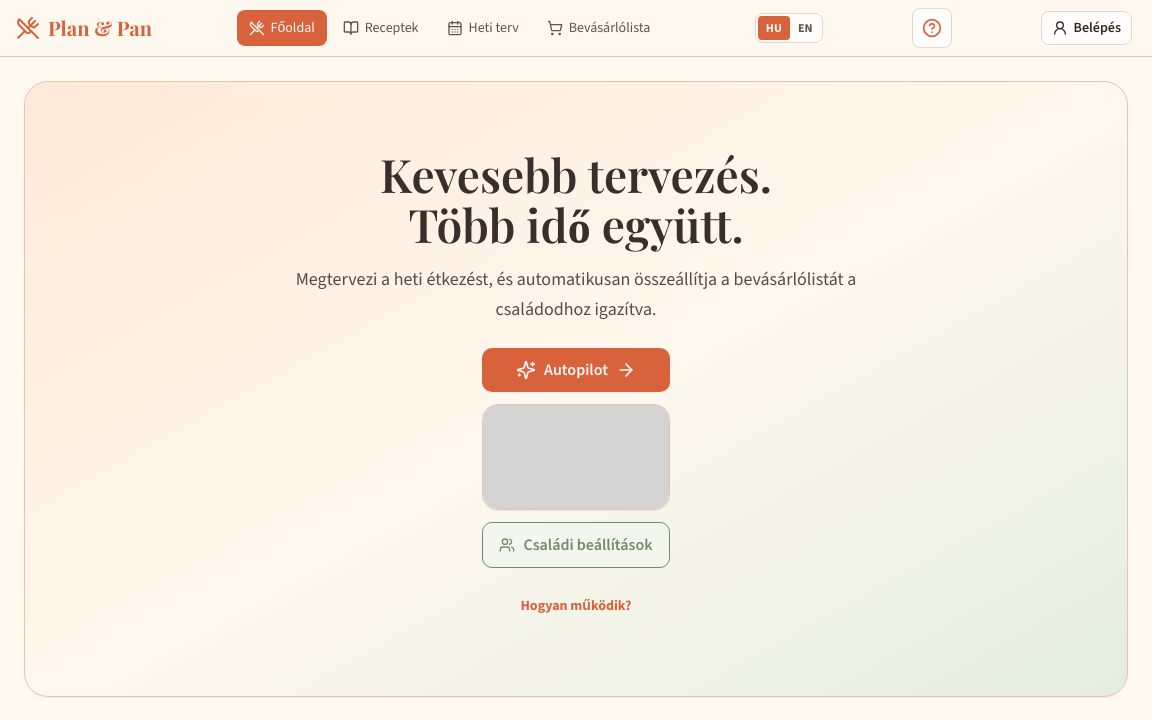
Test: planner meal cards › returns from the shopping list to the actual previous app page
The image size is (1152, 720).
Click the link "Bevásárlólista": [598, 28] box left=547, top=18, right=650, bottom=37
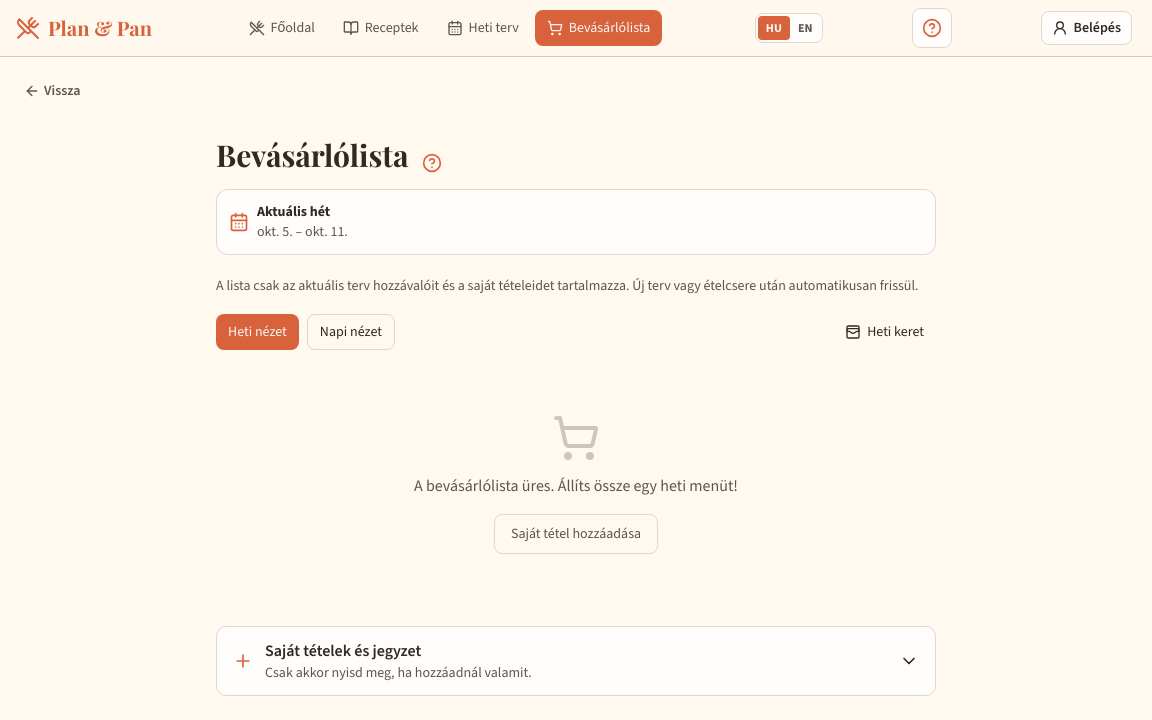
Click the link "Vissza": [52, 90] box left=24, top=81, right=80, bottom=100
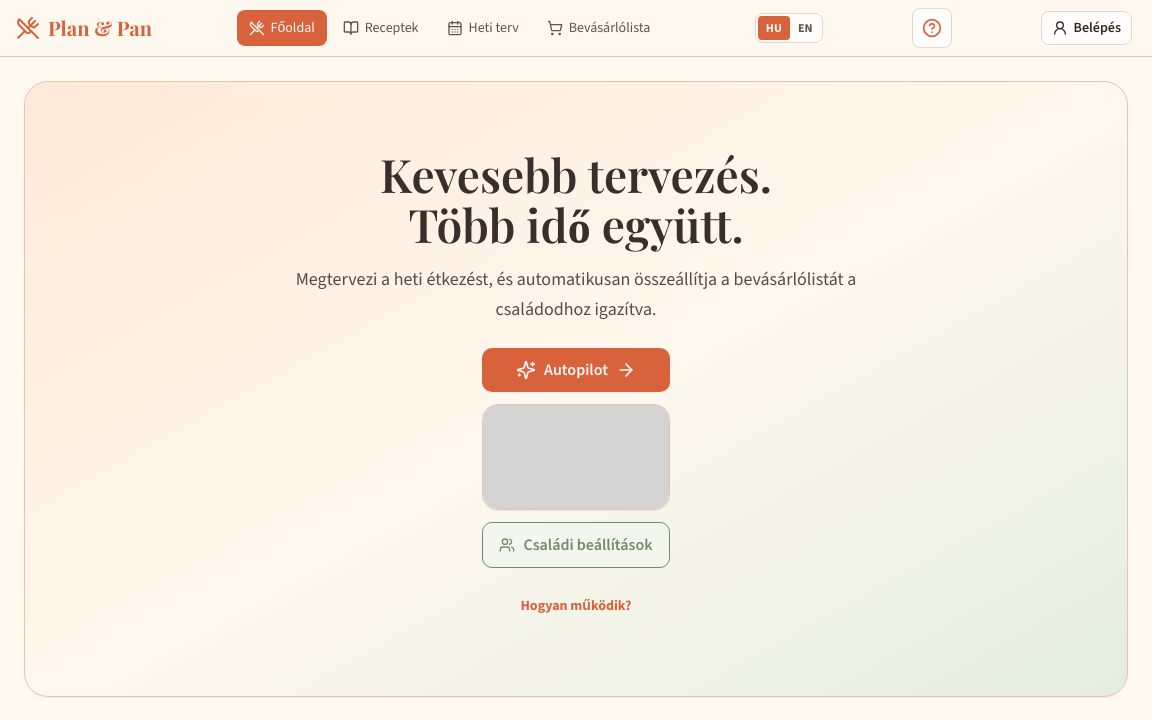
Expected: the heading "Kevesebb tervezés. Több idő együtt." is shown, left=380, top=150, right=772, bottom=249
